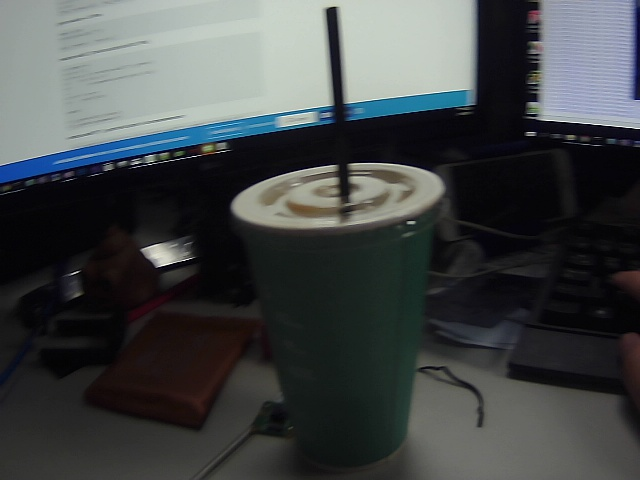beverage: (215, 2, 460, 475)
